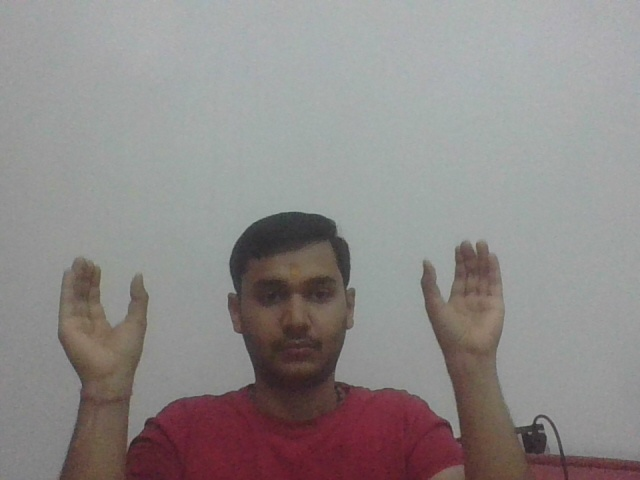U: (57, 254, 152, 385), (417, 236, 507, 357)
